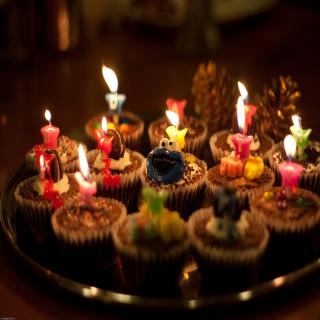Muffin: (13, 106, 320, 297)
